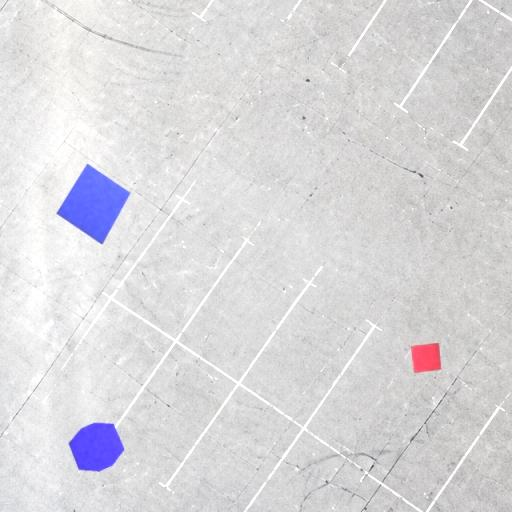BLUE_SQUARE: (55, 163, 131, 245)
RED_SQUARE: (410, 342, 442, 374)
